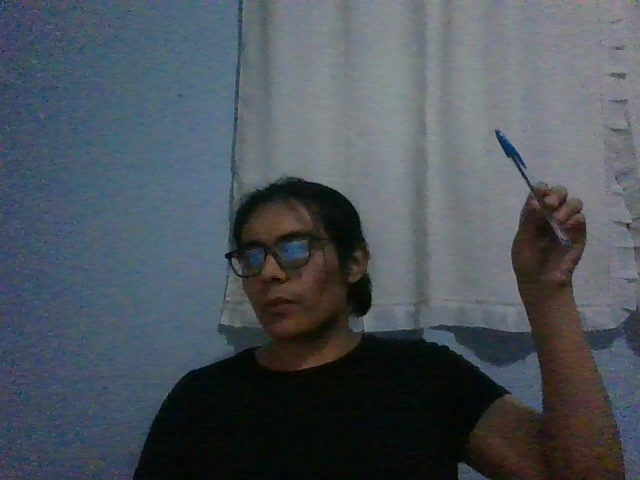pluma: (493, 127, 572, 248)
